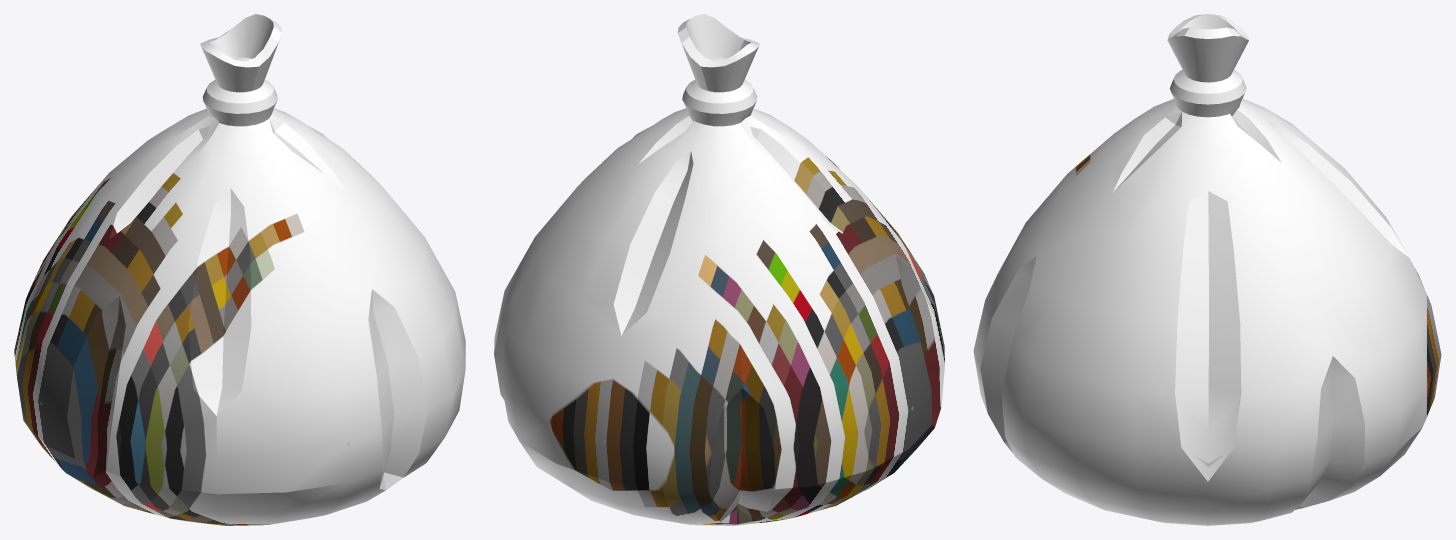
Rendered from trash-bag.glb.
3 views of the same model, side by side, from view 1: azimuth 30°, elevation 25°; view 2: azimuth 150°, elevation 25°; view 3: azimuth 270°, elevation 25° (orthographic). The views are drawn at different scales.
Parts seen in each view (by area): view 1: TrashBag_1; view 2: TrashBag_1; view 3: TrashBag_1.
Part boxes in pixels (box(x1,y1,x2,y2)): TrashBag_1: box(14, 14, 465, 525); TrashBag_1: box(494, 14, 944, 525); TrashBag_1: box(973, 14, 1441, 525).
Bounding box in the file's own units: 0.4969 × 0.5637 × 0.5033.
1 material, 1 textured.
